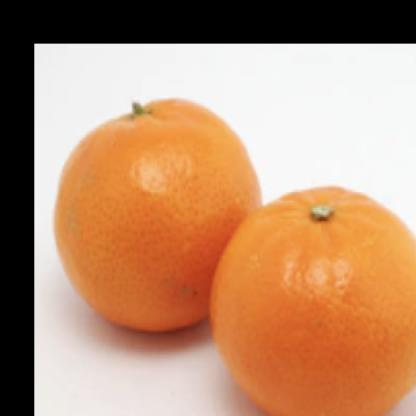fresh: (51, 97, 416, 416)
